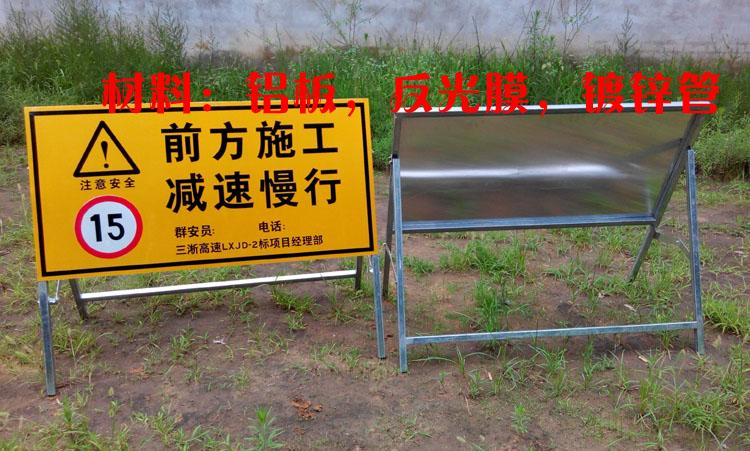sign: (27, 110, 378, 258)
